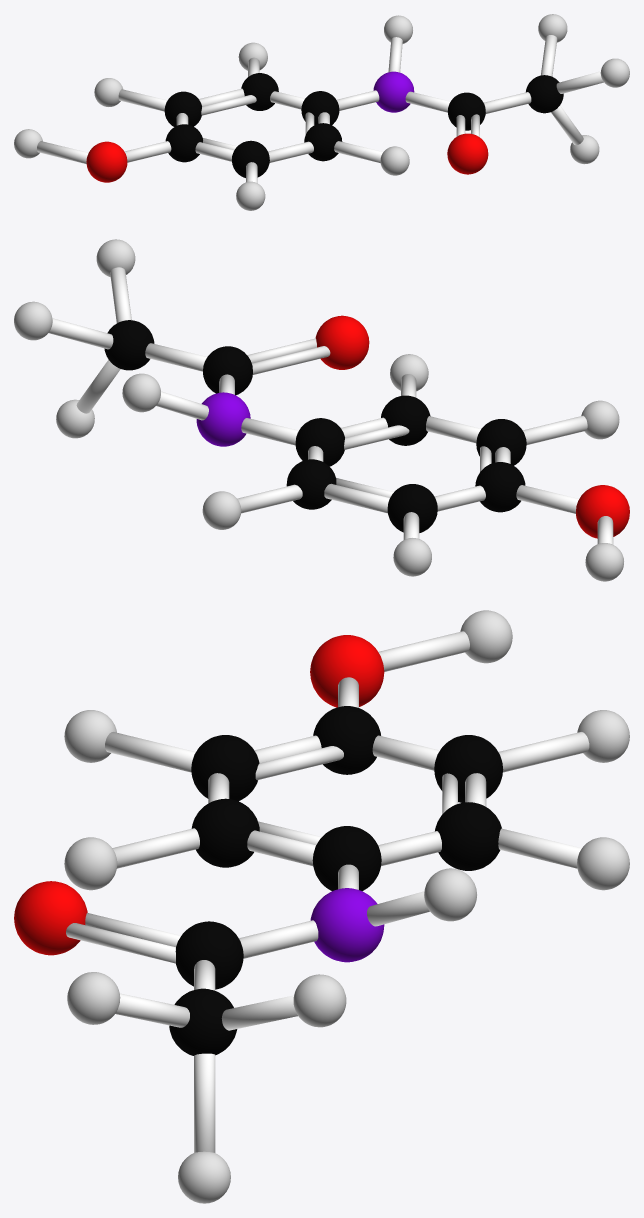
The model's file is paracetamol.fbx.
The picture shows the model from 3 angles, top to bottom: view 1: azimuth 30°, elevation 25°; view 2: azimuth 150°, elevation 25°; view 3: azimuth 270°, elevation 25°; orthographic projection. The views are drawn at different scales.
Parts seen in each view (by area): view 1: Sphere; view 2: Sphere; view 3: Sphere.
Part boxes in pixels (x1,y1,x2,y2): Sphere: (14,14,629,210); Sphere: (14,239,629,581); Sphere: (14,610,629,1203).
Size of the model in its own units: 1982 by 472 by 1161.
